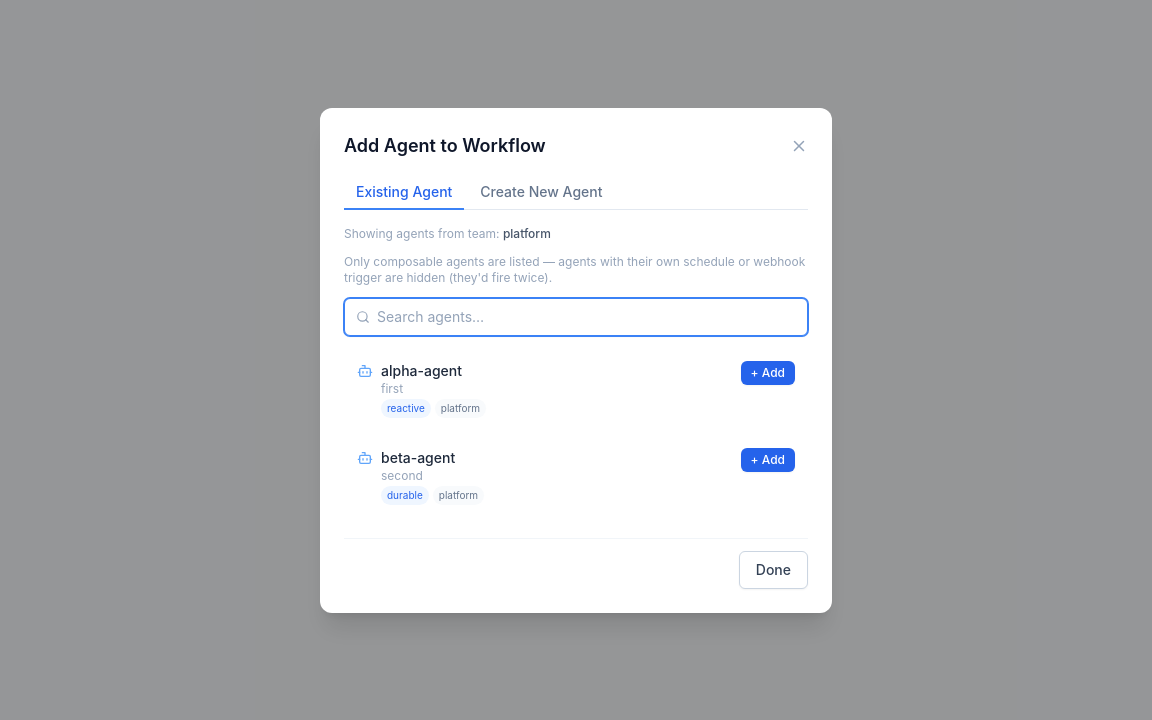
Test case: AddAgentModal › filters by search text
This screenshot has width=1152, height=720.
Expected: the text "alpha-agent" is shown, [381,362,462,378]
In the field with placeholder "Search agents…": [576, 316] box [344,298,808,336], type "beta"
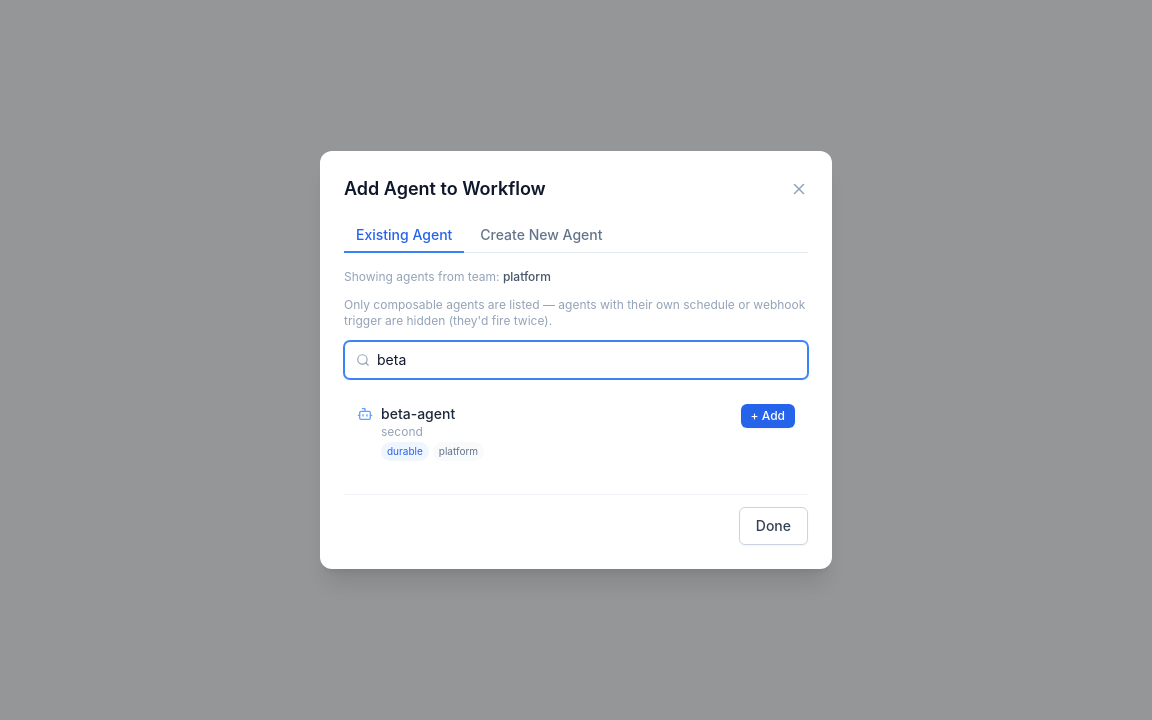
Expected: the text "beta-agent" is shown, [381,405,455,422]
Now the text "alpha-agent" is gone
